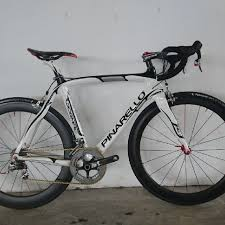bicycle: (1, 40, 222, 211)
